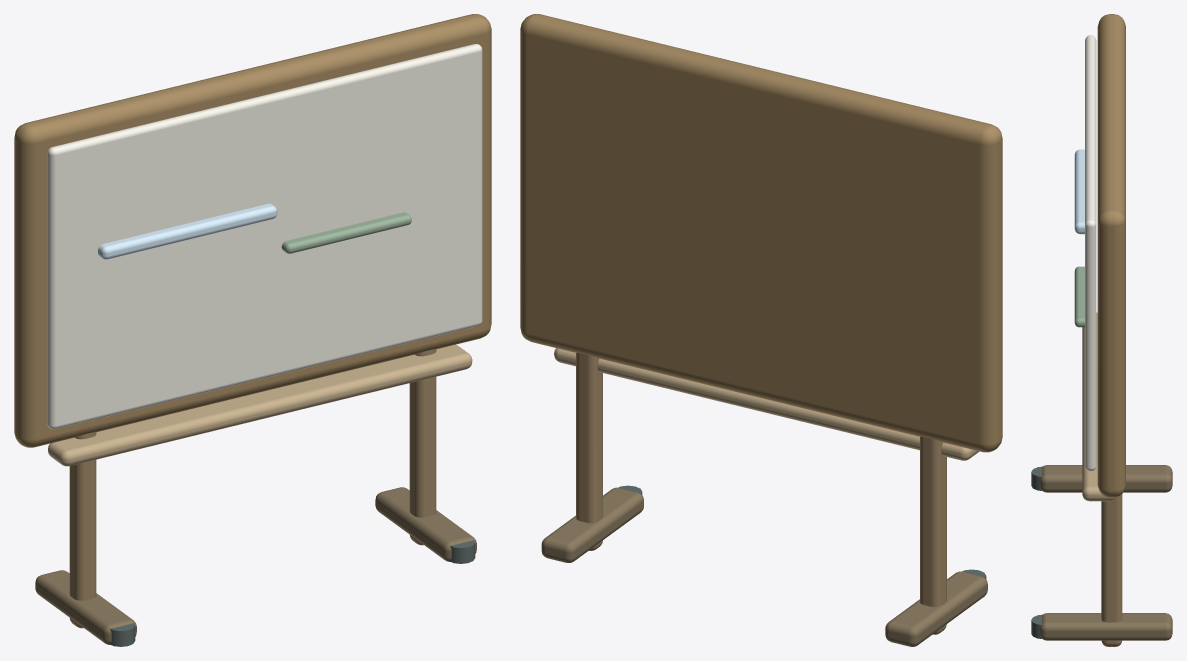
File: whiteboard.glb
3 views of the same model, side by side, from view 1: azimuth 30°, elevation 25°; view 2: azimuth 150°, elevation 25°; view 3: azimuth 270°, elevation 25° (orthographic). The views are drawn at different scales.
Visible parts, largest first — view 1: whiteboard; view 2: whiteboard; view 3: whiteboard.
Boxes of the visible parts, bbox=[...] form: whiteboard: bbox=[14, 14, 491, 646]; whiteboard: bbox=[520, 14, 1002, 646]; whiteboard: bbox=[1031, 14, 1172, 646].
Size of the model in its own units: 1.72 by 1.79 by 0.5.
